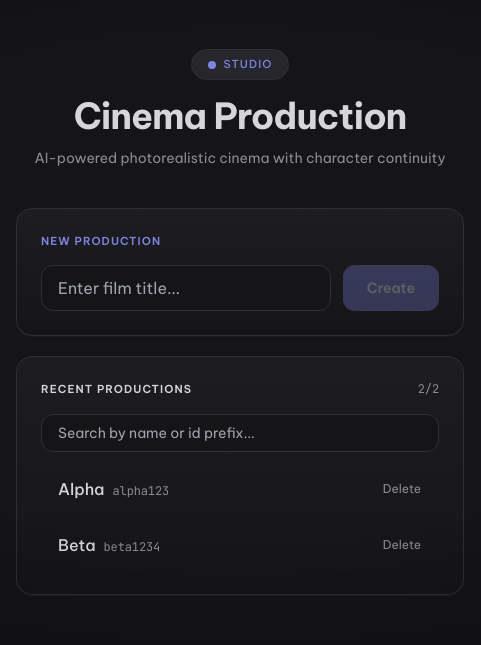
Test: ProjectSelector project deletion › surfaces an existing-project load failure and re-enables a retry
This screenshot has width=481, height=645.
expect the text "Alpha" is shown: met, box [58,479,104,499]
Click the button named "Alpha alpha123" at (81, 489), box [42,465,374,513]
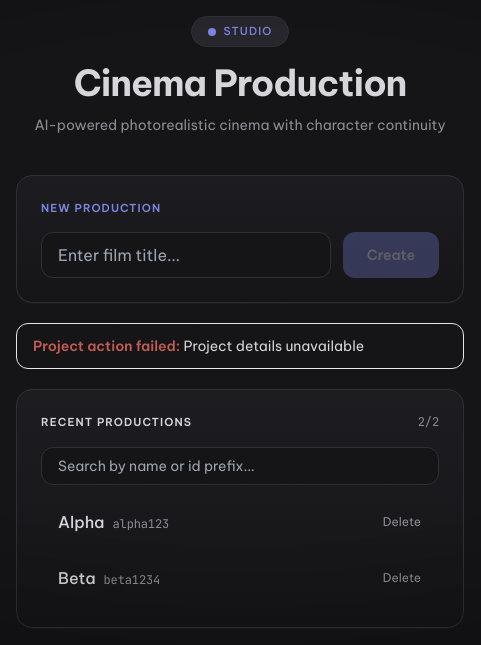
expect the text "Alpha" is shown: met, box [58,512,104,532]
expect the message shows "Project details unavailable": met, box [183,337,364,355]
